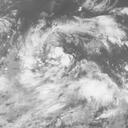cyclone: (25, 35, 90, 97)
